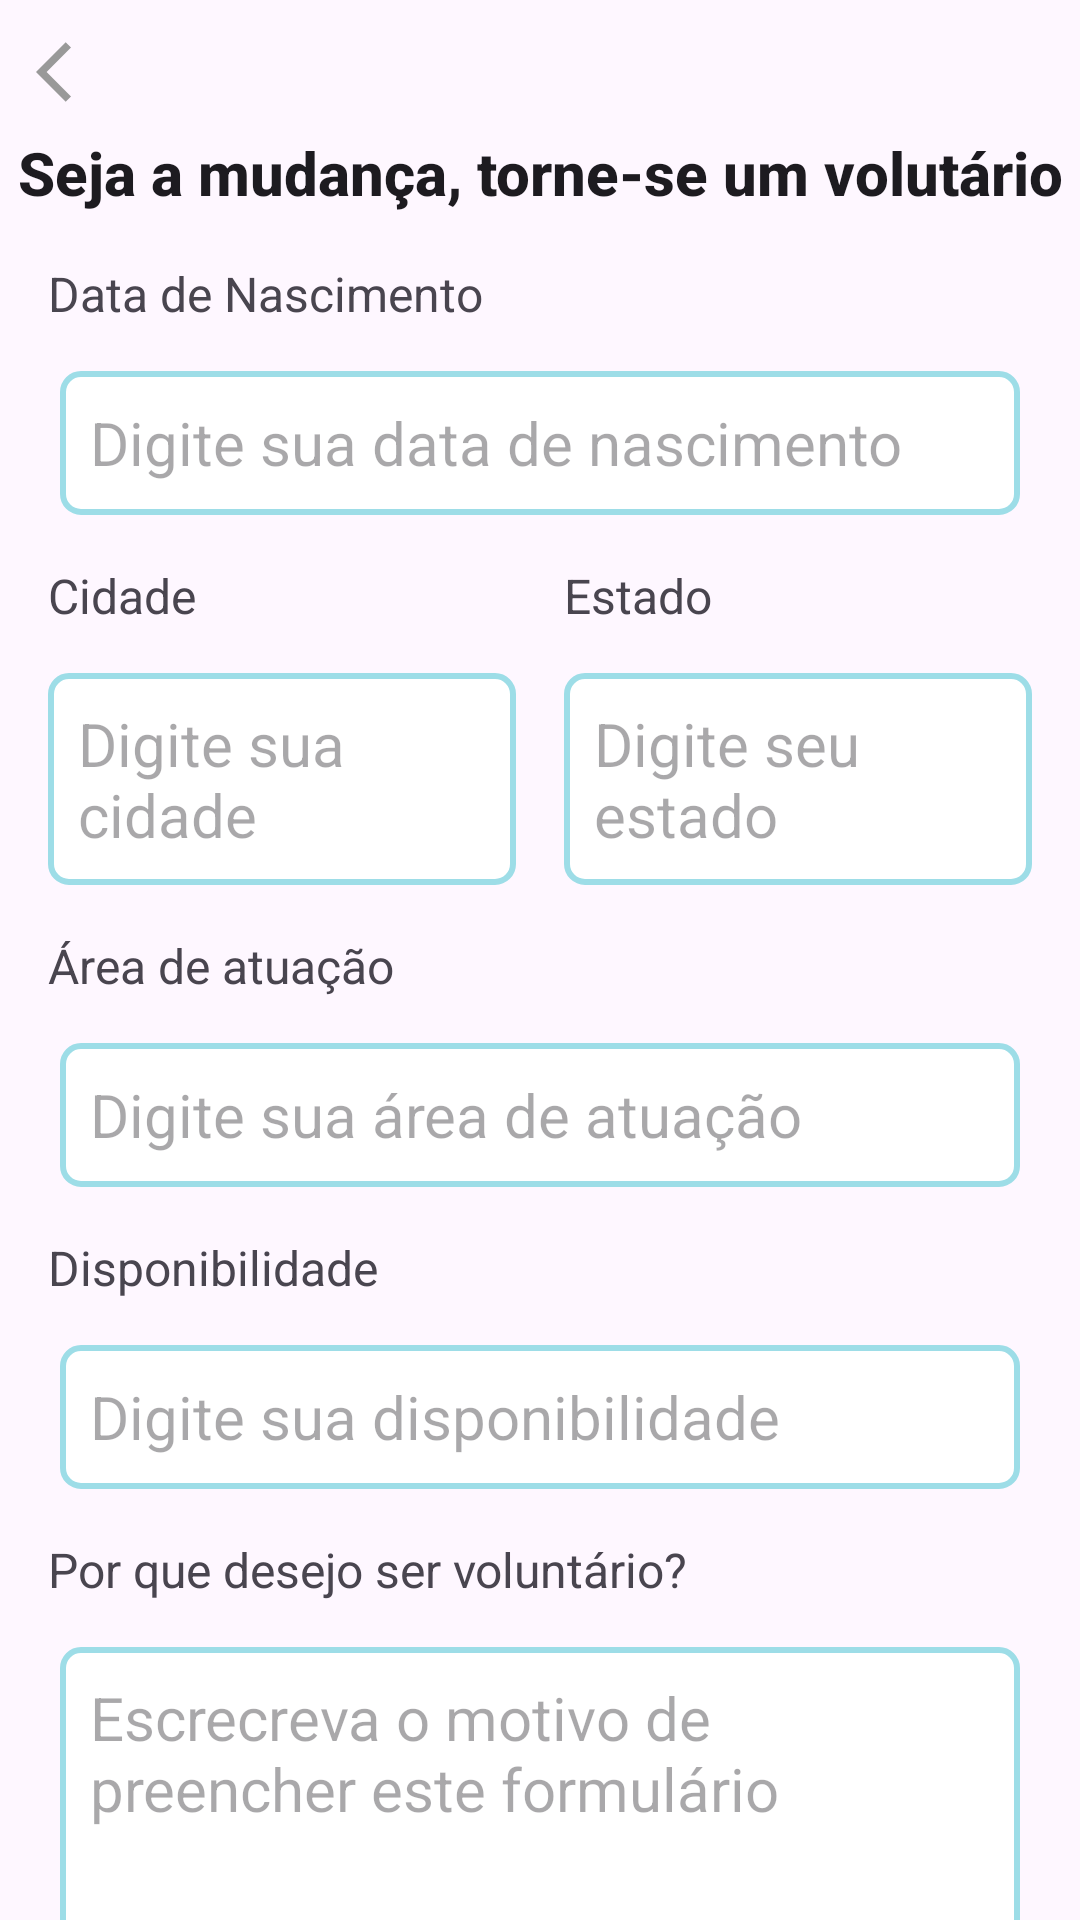

Where to tap for icons on this 1080×1920 app screen, as point (x, y):
Voltar: point (53, 72)
